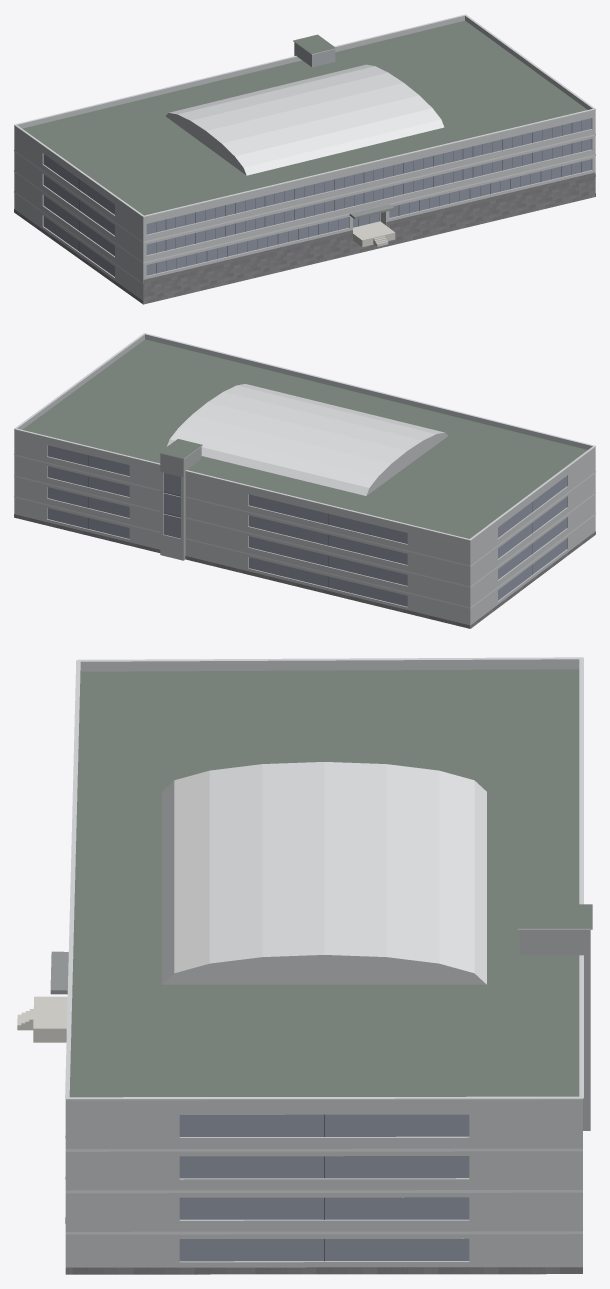
3 renders of one model, top to bottom at view 1: azimuth 30°, elevation 25°; view 2: azimuth 150°, elevation 25°; view 3: azimuth 270°, elevation 25°, orthographic. The views are drawn at different scales.
Visible parts, largest first — view 1: b71_2__roof, b71_2__wall, b71_2__glass, b71_2__vaultRoof, b71_2__base, b71_2__parapet, b71_2__trim, b71_2__frame, b71_2__vaultEnd, b71_2__entranceStair, b71_2__wall2; view 2: b71_2__roof, b71_2__wall, b71_2__vaultRoof, b71_2__glass, b71_2__trim, b71_2__parapet, b71_2__base, b71_2__vaultEnd, b71_2__wall2; view 3: b71_2__roof, b71_2__vaultRoof, b71_2__wall, b71_2__glass, b71_2__trim, b71_2__parapet, b71_2__vaultEnd, b71_2__base, b71_2__wall2, b71_2__entranceStair.
Boxes of the visible parts, x1,y1,x2,y2 form: b71_2__roof: [22, 20, 594, 304]; b71_2__wall: [14, 114, 595, 300]; b71_2__glass: [43, 118, 591, 276]; b71_2__vaultRoof: [169, 64, 444, 175]; b71_2__base: [14, 172, 595, 304]; b71_2__parapet: [14, 15, 595, 221]; b71_2__trim: [14, 14, 595, 283]; b71_2__frame: [79, 120, 581, 273]; b71_2__vaultEnd: [165, 113, 246, 175]; b71_2__entranceStair: [353, 221, 395, 247]; b71_2__wall2: [294, 42, 335, 67]; b71_2__roof: [22, 339, 587, 538]; b71_2__wall: [14, 434, 595, 628]; b71_2__vaultRoof: [167, 384, 444, 495]; b71_2__glass: [47, 445, 566, 606]; b71_2__trim: [14, 333, 595, 608]; b71_2__parapet: [14, 334, 595, 544]; b71_2__base: [14, 514, 595, 628]; b71_2__vaultEnd: [366, 432, 447, 495]; b71_2__wall2: [160, 447, 201, 560]; b71_2__roof: [70, 669, 592, 1274]; b71_2__vaultRoof: [162, 762, 486, 984]; b71_2__wall: [65, 1108, 582, 1267]; b71_2__glass: [179, 1114, 469, 1261]; b71_2__trim: [65, 657, 592, 1234]; b71_2__parapet: [65, 659, 582, 1108]; b71_2__vaultEnd: [162, 955, 486, 984]; b71_2__base: [65, 1217, 582, 1274]; b71_2__wall2: [519, 930, 590, 1130]; b71_2__entranceStair: [17, 996, 67, 1042].
Size of the model in its own units: 82.39 by 17.69 by 45.35.
Materials: 13 (1 with a texture image).
